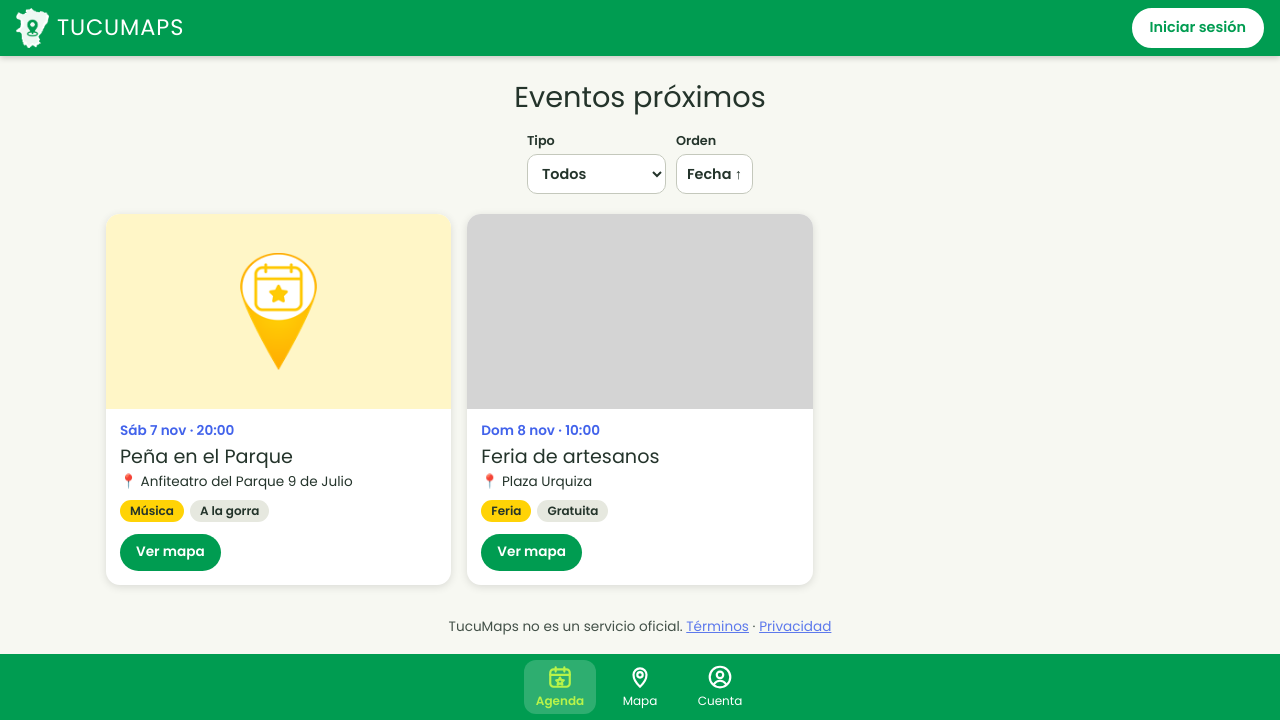
Test case: App › el navbar del usuario anónimo tiene el logo y "Iniciar sesión", que lleva al login
# Aparece cuando ya se sabe que no hay sesión.
What coordinates should you click on to do the following:
click the link "Iniciar sesión"
I would click on:
 (1198, 28)
Its box is [1132,8,1264,48].
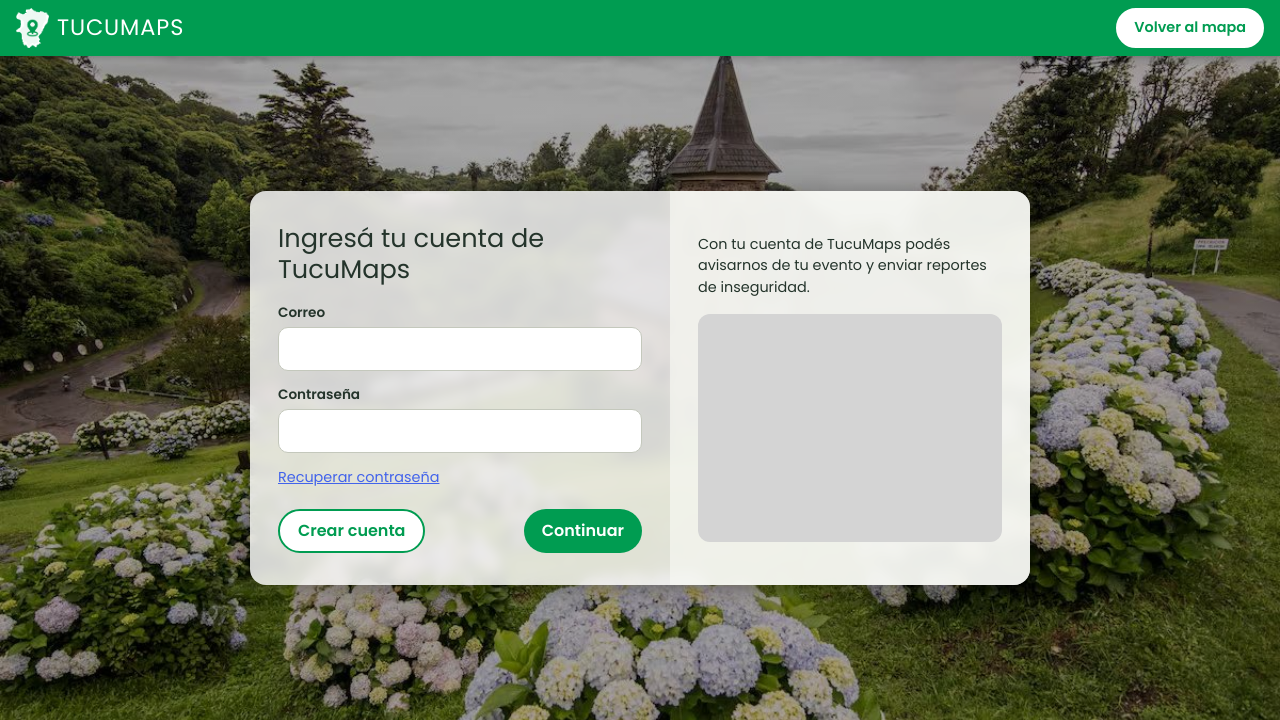
Expected: the heading "Ingresá tu cuenta de TucuMaps" is shown, [278,220,544,287]
